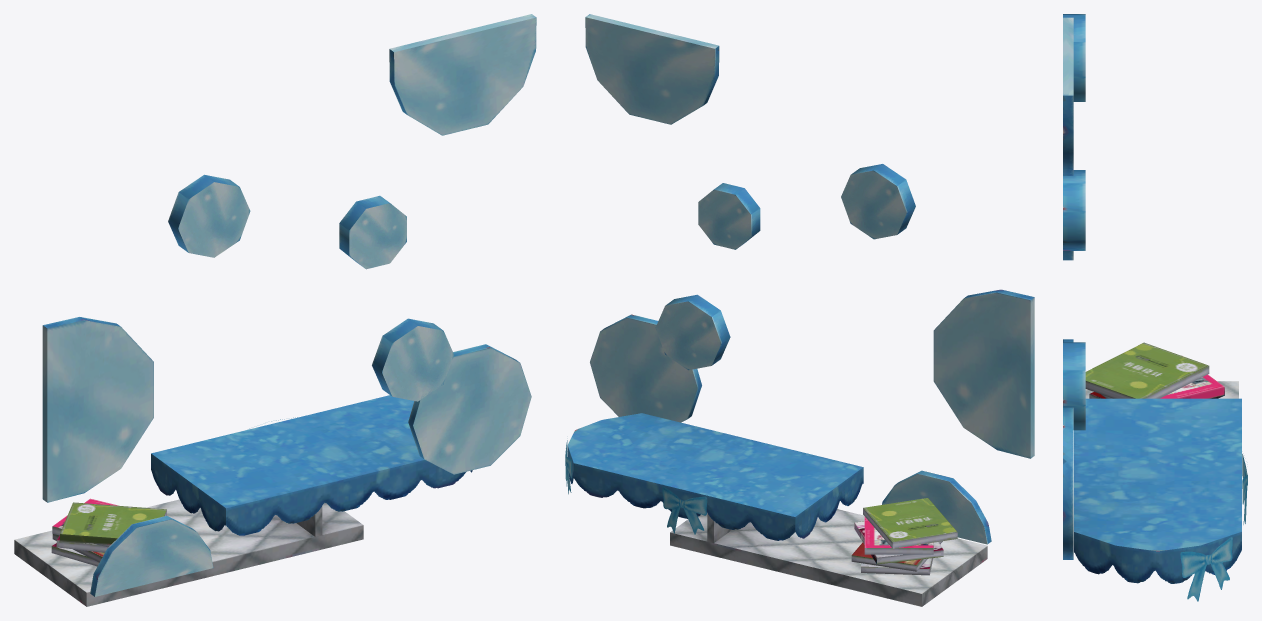
Rendered from furni_0200029_03.FBX.
3 views of the same model, side by side, from view 1: azimuth 30°, elevation 25°; view 2: azimuth 150°, elevation 25°; view 3: azimuth 270°, elevation 25° (orthographic). The views are drawn at different scales.
Visible parts, largest first — view 1: furni_0200029_03; view 2: furni_0200029_03; view 3: furni_0200029_03.
Boxes of the visible parts, x1,y1,x2,y2 form: furni_0200029_03: (14, 14, 536, 606); furni_0200029_03: (565, 14, 1034, 606); furni_0200029_03: (1063, 14, 1247, 601).
Size of the model in its own units: 281 by 267 by 82.18.
